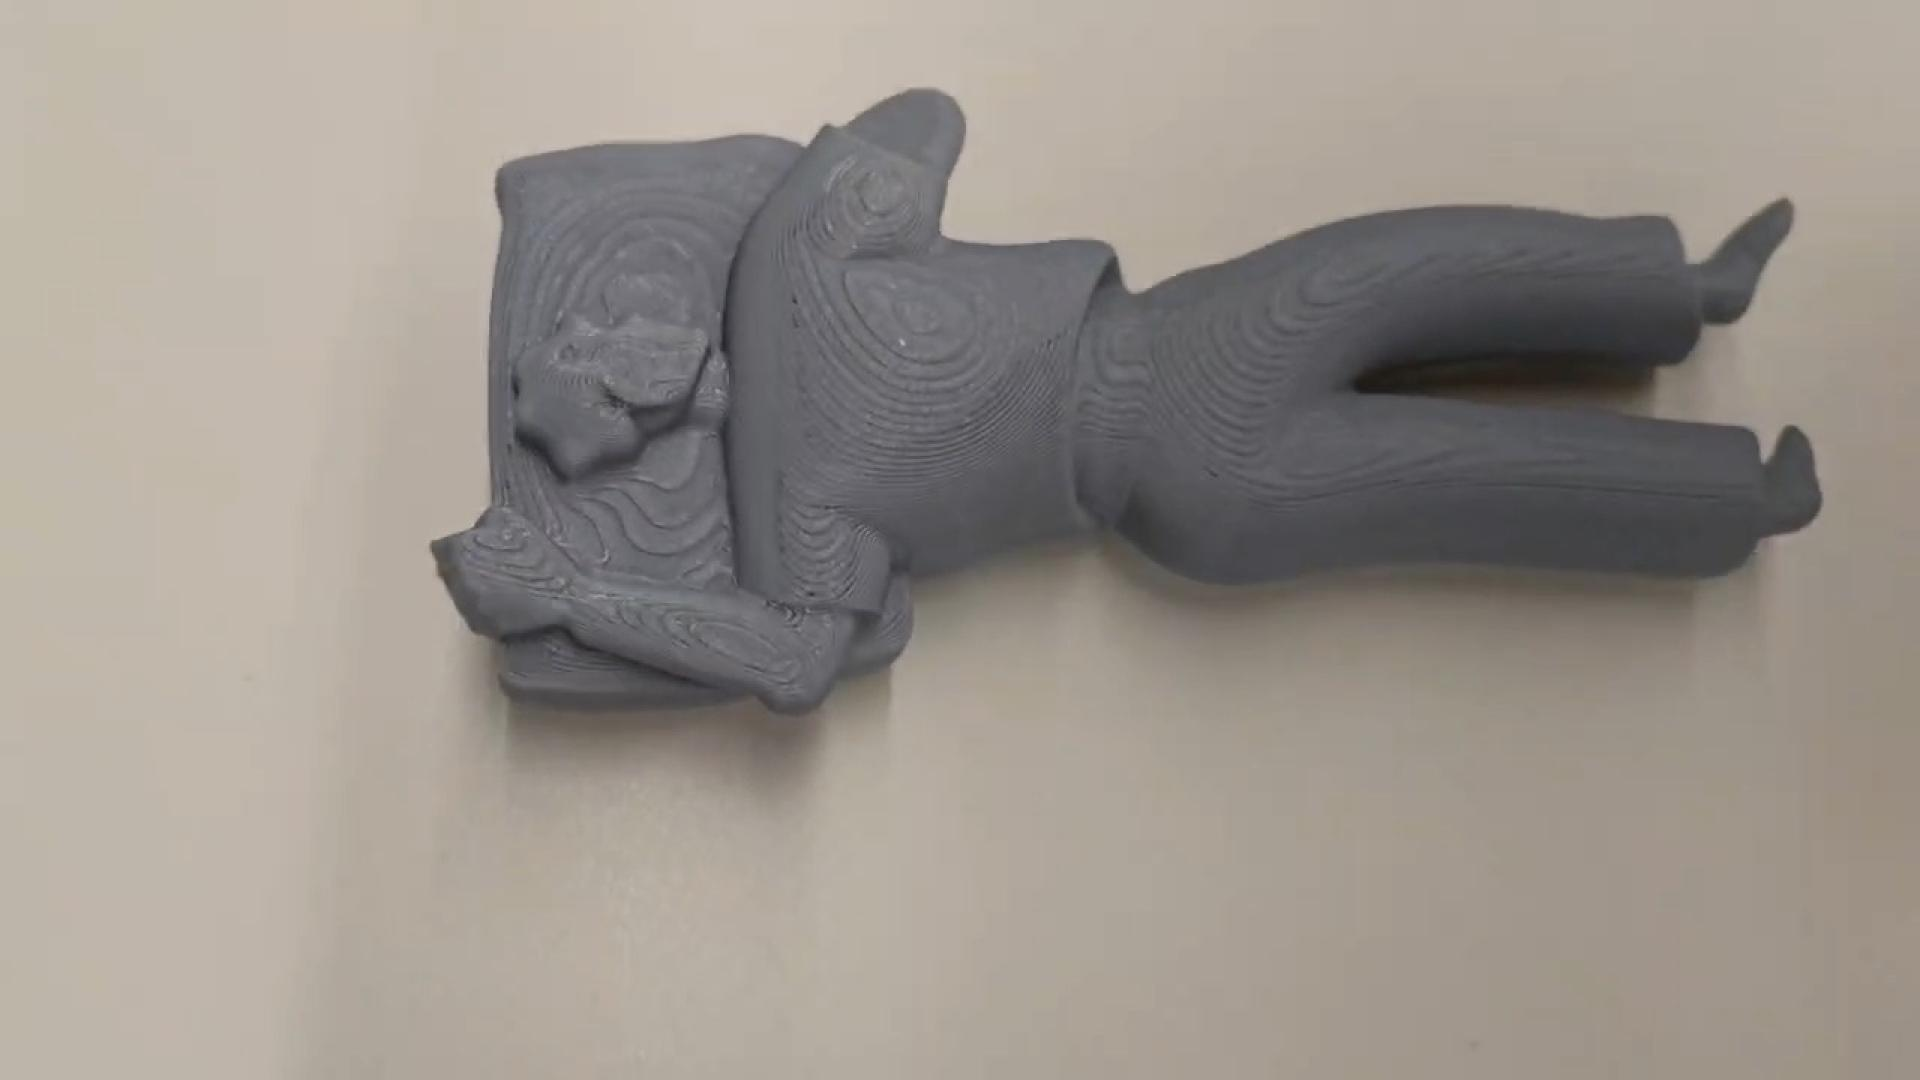Bad-style: (430, 88, 1830, 732)
